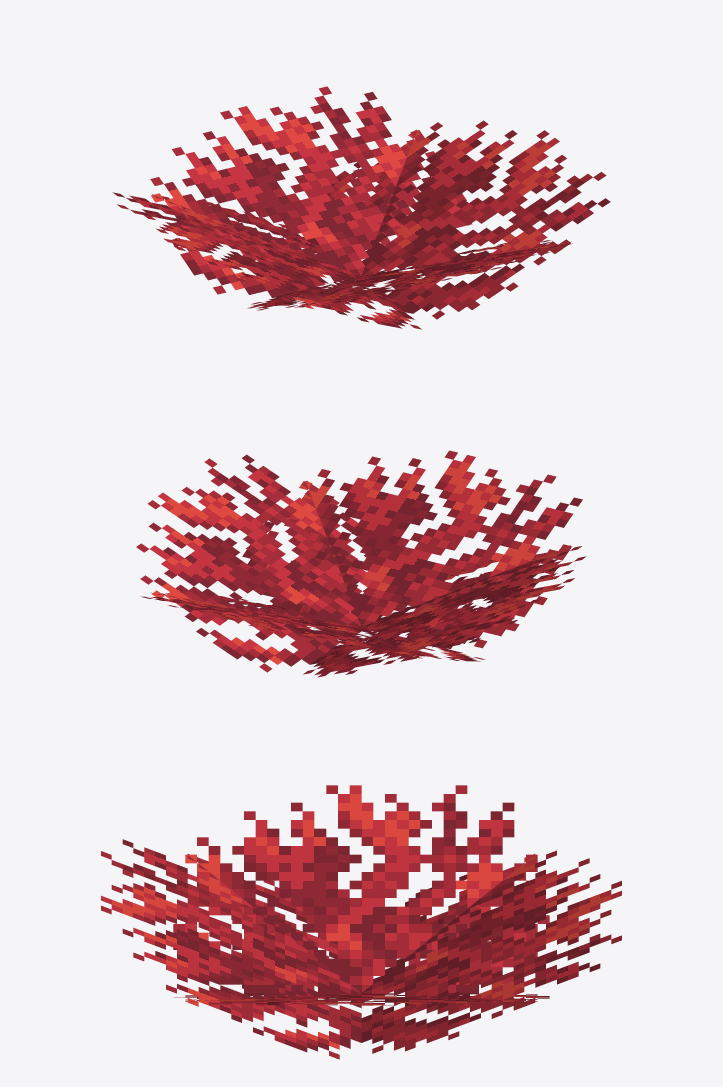
Rendered from block_fire_coral_fan.gltf.
3 renders of one model, top to bottom at view 1: azimuth 30°, elevation 25°; view 2: azimuth 150°, elevation 25°; view 3: azimuth 270°, elevation 25°, orthographic. The views are drawn at different scales.
Visible parts, largest first — view 1: cube (×4); view 2: cube (×4); view 3: cube (×4).
Boxes of the visible parts, x1,y1,x2,y2 form: cube (×4): [112, 86, 610, 329]; cube (×4): [136, 450, 586, 677]; cube (×4): [101, 785, 621, 1059].
Size of the model in its own units: 1.85 by 0.3827 by 1.85.
Materials: 1 (1 with a texture image).
